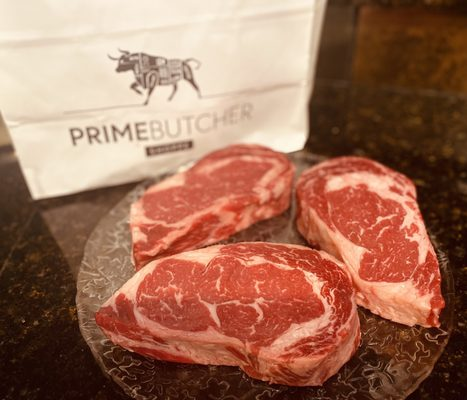taco: (293, 156, 446, 330)
